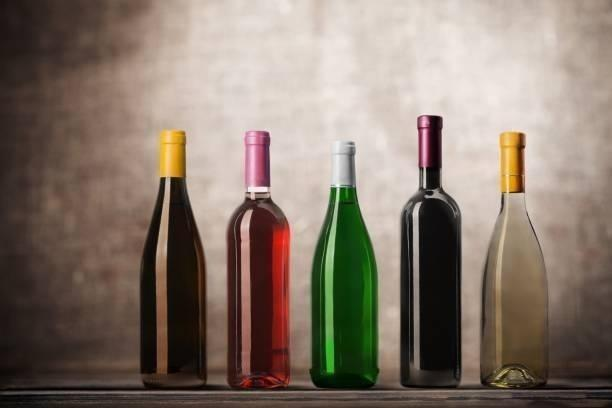bottle-glass: (476, 128, 553, 391), (135, 126, 211, 391), (396, 111, 466, 390), (222, 126, 295, 393), (307, 135, 382, 391)
